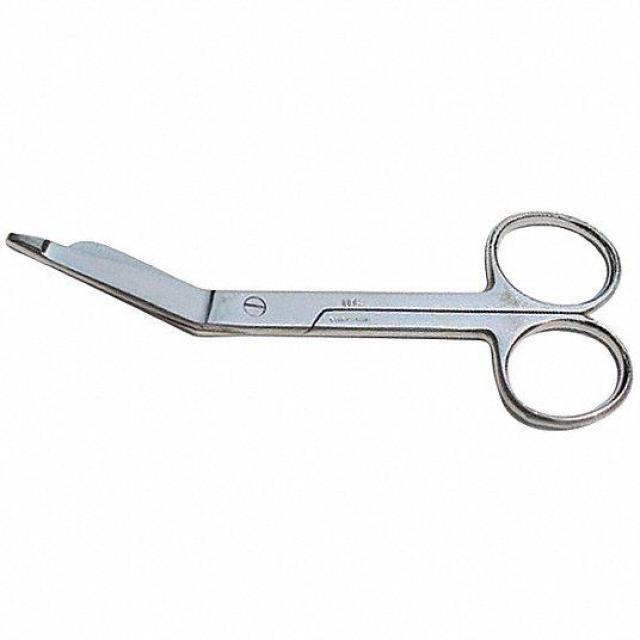scissors: (6, 208, 635, 433)
